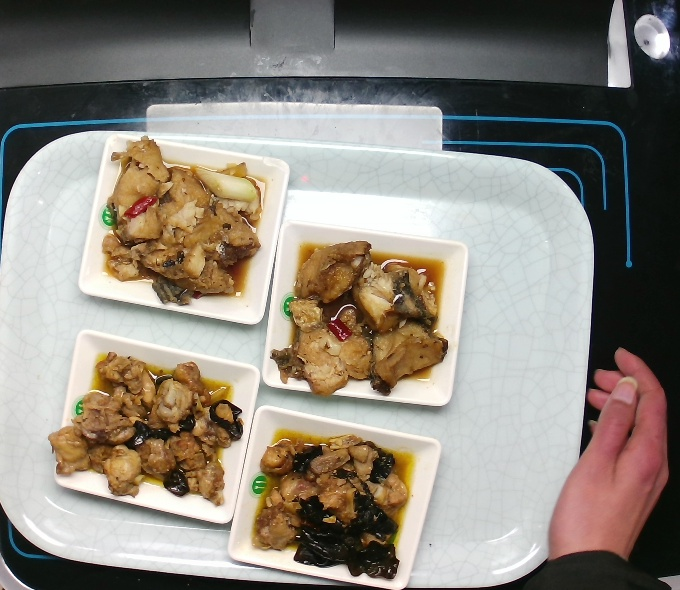wcq-MuErRouKuai: (44, 349, 248, 511), (245, 431, 413, 584)
wcq-YuKuai: (265, 234, 451, 399), (95, 132, 269, 308)
